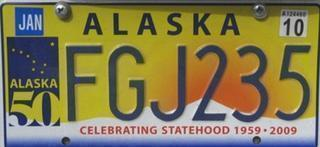placa de veiculo: (2, 2, 311, 143)
